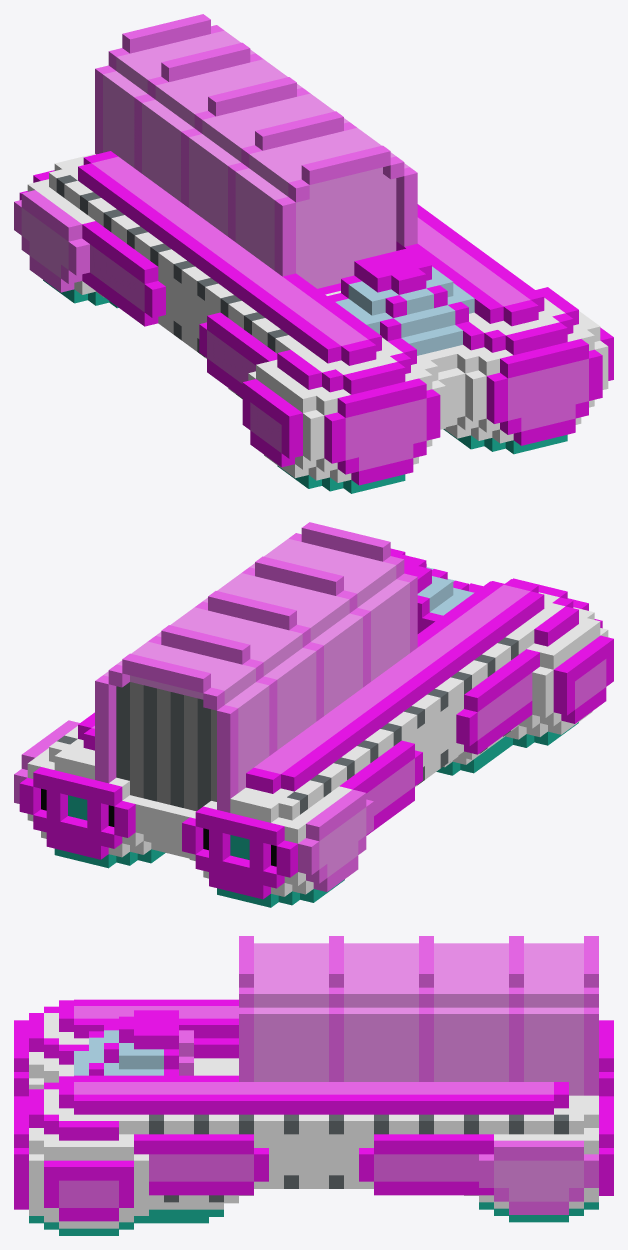
Rendered from truck.obj.
The picture shows the model from 3 angles, top to bottom: view 1: azimuth 30°, elevation 25°; view 2: azimuth 150°, elevation 25°; view 3: azimuth 270°, elevation 25°; orthographic projection. The views are drawn at different scales.
Size of the model in its own units: 2.4 by 1.6 by 4.
1 material, 1 textured.
